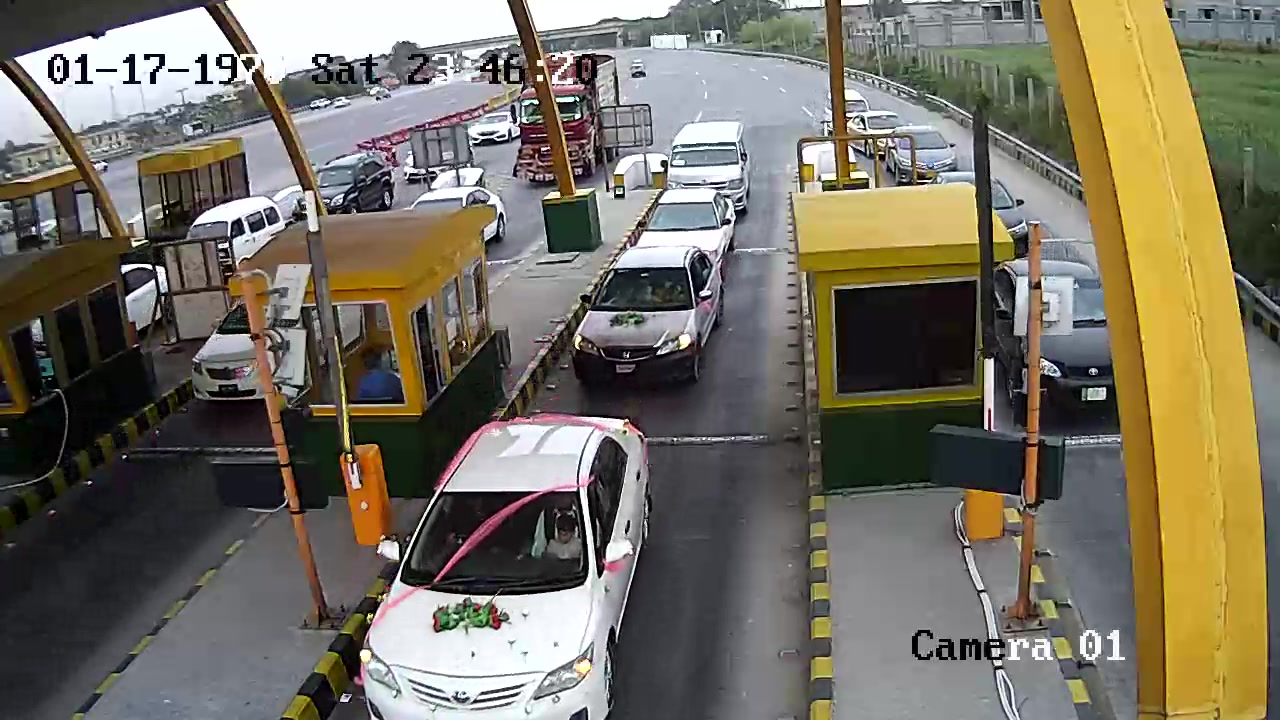F1: (357, 407, 670, 718), (567, 245, 728, 393)
